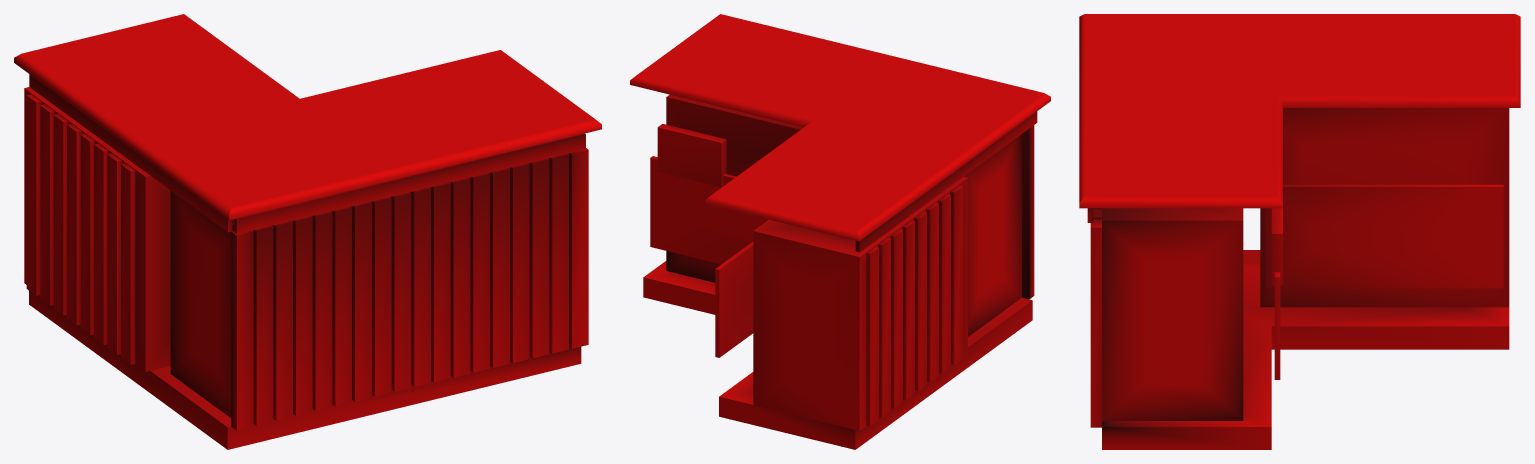
The model's file is CI_Cafe_Counter_Corner.glb.
3 views of the same model, side by side, from view 1: azimuth 30°, elevation 25°; view 2: azimuth 150°, elevation 25°; view 3: azimuth 270°, elevation 25° (orthographic). The views are drawn at different scales.
Parts seen in each view (by area): view 1: CI_Cafe_Counter_Corner; view 2: CI_Cafe_Counter_Corner; view 3: CI_Cafe_Counter_Corner.
Boxes of the visible parts, x1,y1,x2,y2 form: CI_Cafe_Counter_Corner: [14, 14, 601, 449]; CI_Cafe_Counter_Corner: [630, 14, 1050, 449]; CI_Cafe_Counter_Corner: [1079, 14, 1520, 449].
Bounding box in the file's own units: 1.56 × 1 × 1.56.
